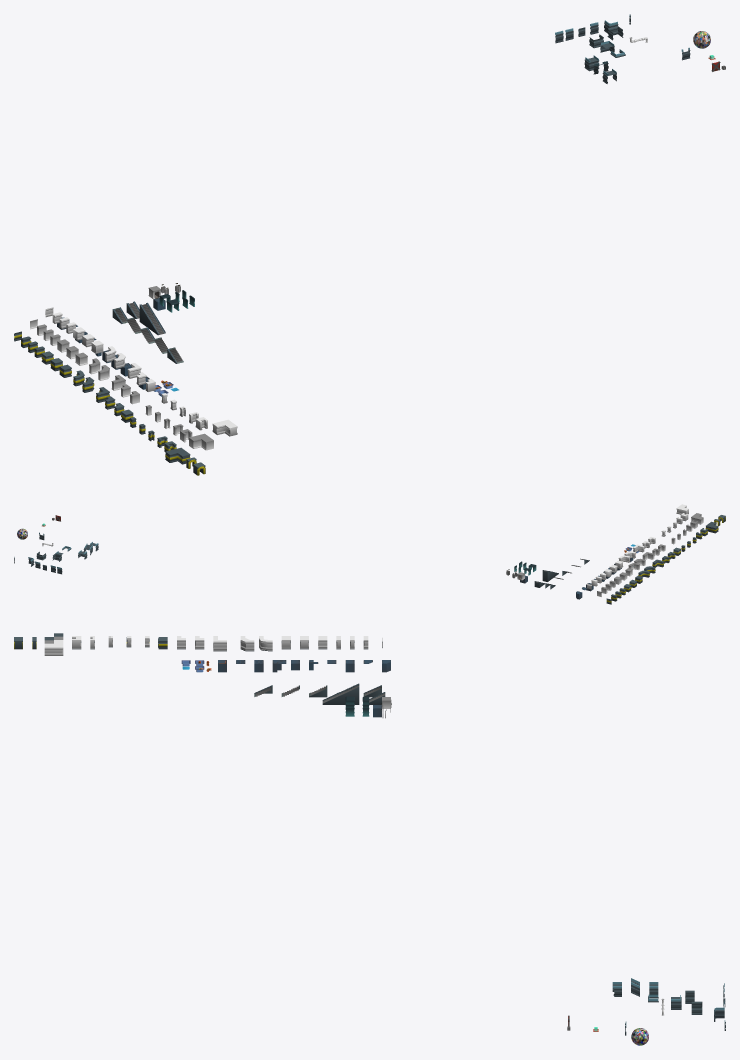
File: EscaleraConBase.fbx
3 renders of one model, top to bottom at view 1: azimuth 30°, elevation 25°; view 2: azimuth 150°, elevation 25°; view 3: azimuth 270°, elevation 25°, orthographic. The views are drawn at different scales.
Bounding box in the file's own units: 4163 × 118 × 3075.
Materials: 4 (2 with a texture image).
